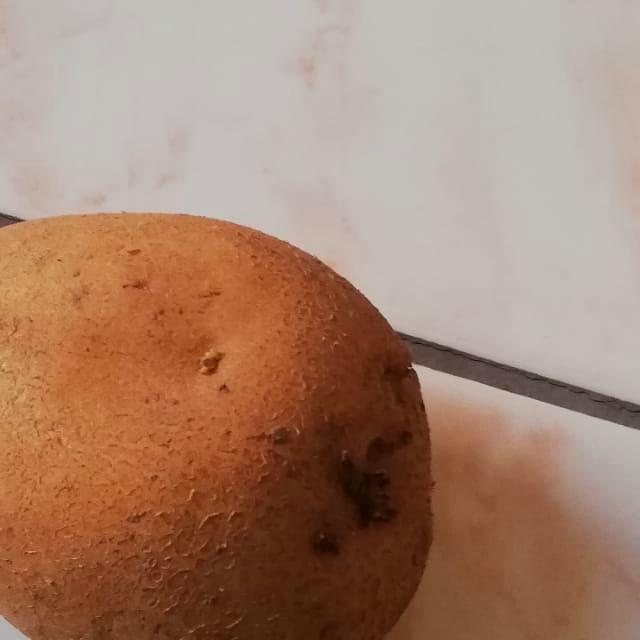potato: (0, 169, 468, 640)
